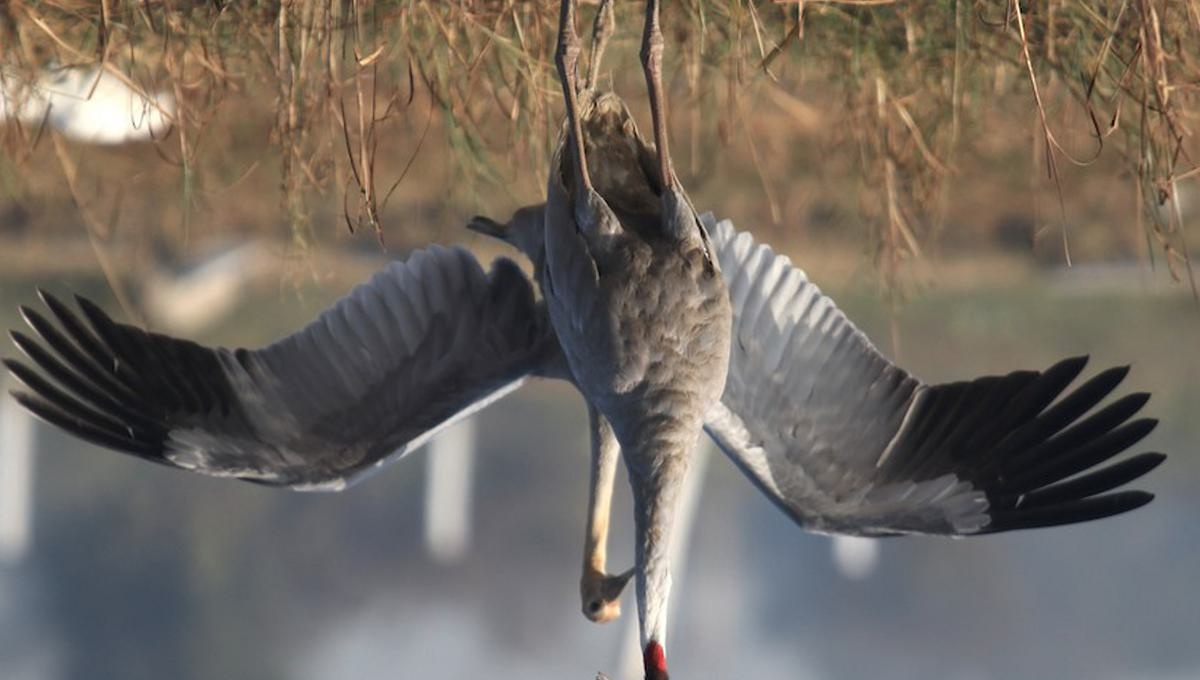crane: (28, 41, 1161, 624), (540, 2, 725, 680)
